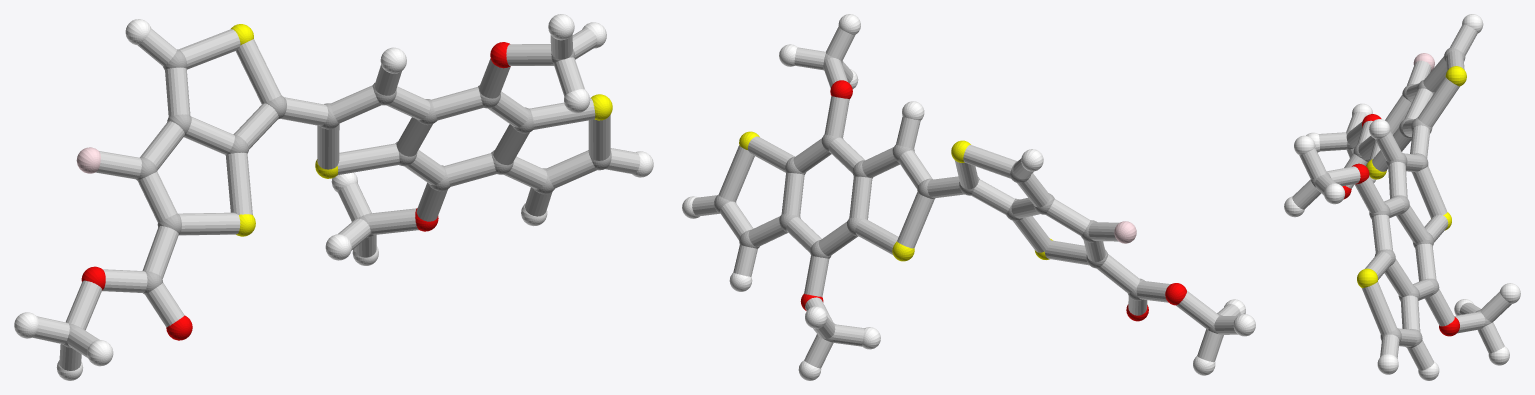
File: Dimethoxy_Benzodithiophene_Phi_10_Theta_60_Methylcarbonyl_3_Fluoro_Thienothiophene.glb
The picture shows the model from 3 angles, left to right: view 1: azimuth 30°, elevation 25°; view 2: azimuth 150°, elevation 25°; view 3: azimuth 270°, elevation 25°; orthographic projection. The views are drawn at different scales.
Parts seen in each view (by area): view 1: grp15205, grp8689, grp1, grp13395, grp7241, grp14843; view 2: grp15205, grp8689, grp1, grp13395, grp7241; view 3: grp15205, grp8689, grp1, grp7241, grp13395.
Boxes of the visible parts, x1,y1,x2,y2 form: grp15205: (32, 28, 640, 370); grp8689: (14, 14, 653, 380); grp1: (63, 49, 611, 347); grp13395: (81, 42, 510, 340); grp7241: (231, 24, 612, 236); grp14843: (76, 147, 100, 173); grp15205: (692, 27, 1240, 368); grp8689: (682, 14, 1255, 380); grp1: (714, 53, 1222, 342); grp13395: (800, 80, 1186, 321); grp7241: (739, 131, 1052, 261); grp15205: (1292, 24, 1511, 370); grp8689: (1284, 14, 1520, 380); grp1: (1311, 47, 1491, 348); grp7241: (1357, 66, 1466, 288); grp13395: (1342, 114, 1459, 336).
Size of the model in its own units: 17.08 by 8.02 by 6.68.
